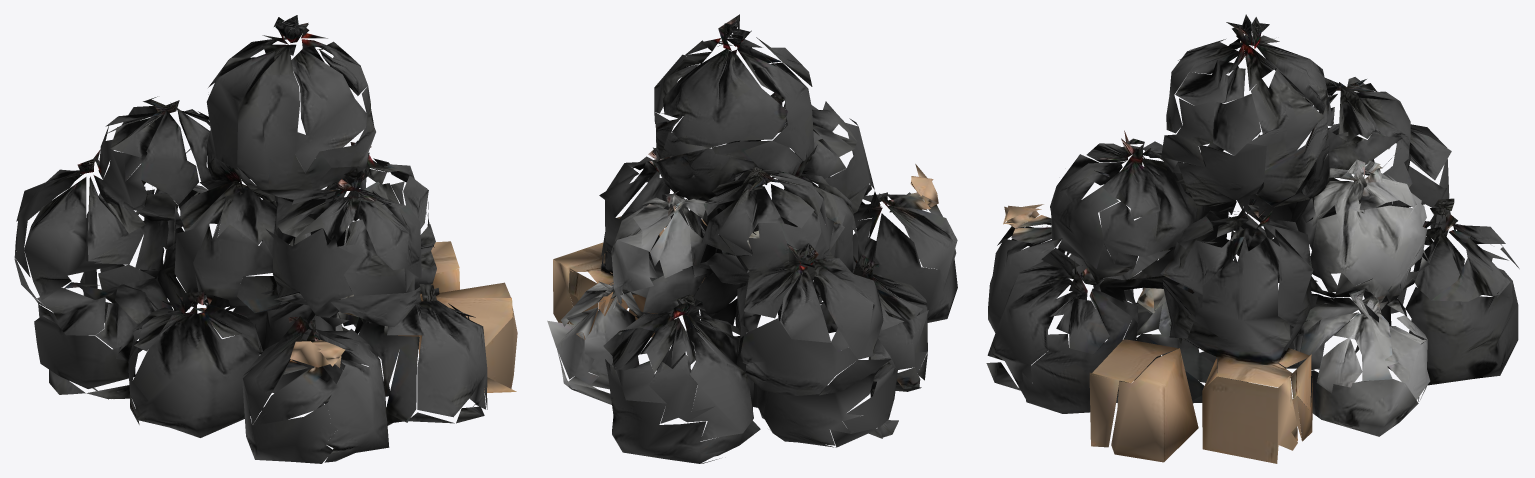
File: trash_bags.glb
3 views of the same model, side by side, from view 1: azimuth 30°, elevation 25°; view 2: azimuth 150°, elevation 25°; view 3: azimuth 270°, elevation 25° (orthographic). The views are drawn at different scales.
Visible parts, largest first — view 1: tripo_node_42424eb4-454d-4b49-874a-5791bd7667d0; view 2: tripo_node_42424eb4-454d-4b49-874a-5791bd7667d0; view 3: tripo_node_42424eb4-454d-4b49-874a-5791bd7667d0.
Part boxes in pixels (<box>): tripo_node_42424eb4-454d-4b49-874a-5791bd7667d0: <box>14,15,517,463</box>; tripo_node_42424eb4-454d-4b49-874a-5791bd7667d0: <box>547,14,957,463</box>; tripo_node_42424eb4-454d-4b49-874a-5791bd7667d0: <box>986,14,1519,463</box>.
Bounding box in the file's own units: 0.91 × 0.8159 × 1.07.
1 material, 1 textured.
